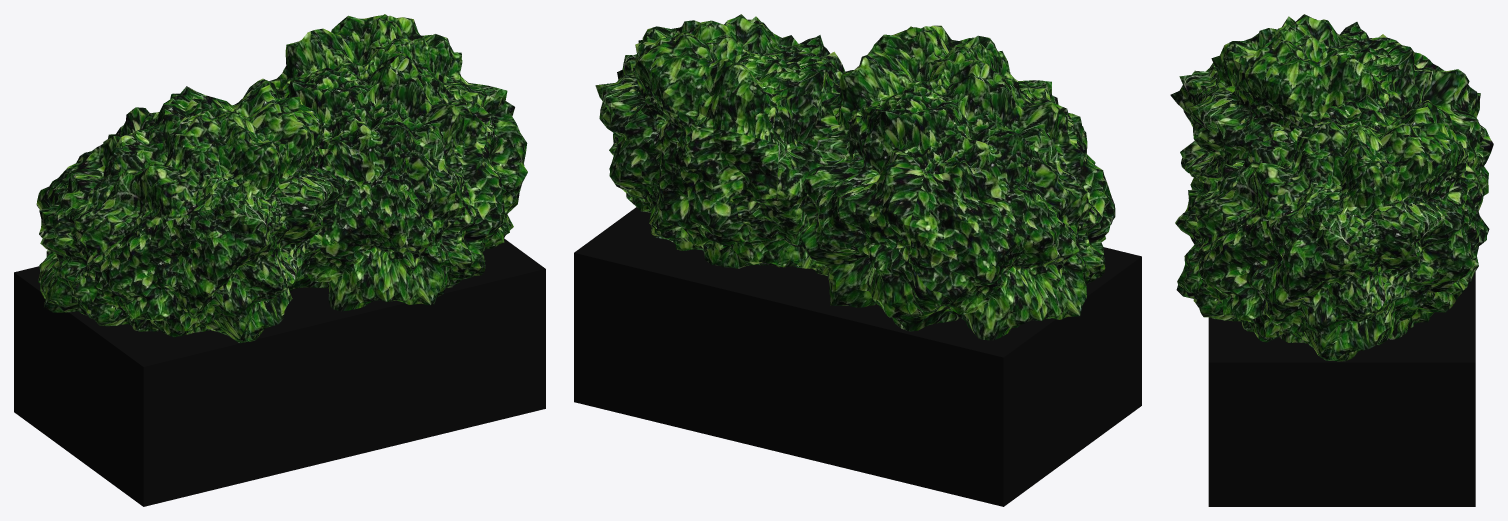
Rendered from arbustoenmaceta.glb.
3 renders of one model, left to right at view 1: azimuth 30°, elevation 25°; view 2: azimuth 150°, elevation 25°; view 3: azimuth 270°, elevation 25°, orthographic. The views are drawn at different scales.
Parts seen in each view (by area): view 1: Cube.001, Icosphere.001, Icosphere.002; view 2: Cube.001, Icosphere.001, Icosphere.002; view 3: Icosphere.002, Cube.001, Icosphere.001.
Part boxes in pixels (x1=…): Cube.001: x1=14, y1=238, x2=545, y2=506; Icosphere.001: x1=36, y1=78, x2=344, y2=343; Icosphere.002: x1=269, y1=14, x2=527, y2=311; Cube.001: x1=574, y1=207, x2=1141, y2=506; Icosphere.001: x1=799, y1=25, x2=1115, y2=340; Icosphere.002: x1=595, y1=14, x2=853, y2=275; Icosphere.002: x1=1175, y1=94, x2=1489, y2=361; Cube.001: x1=1208, y1=272, x2=1475, y2=506; Icosphere.001: x1=1170, y1=14, x2=1493, y2=195.
Size of the model in its own units: 4.05 by 2.87 by 2.42.
3 materials, 2 textured.
